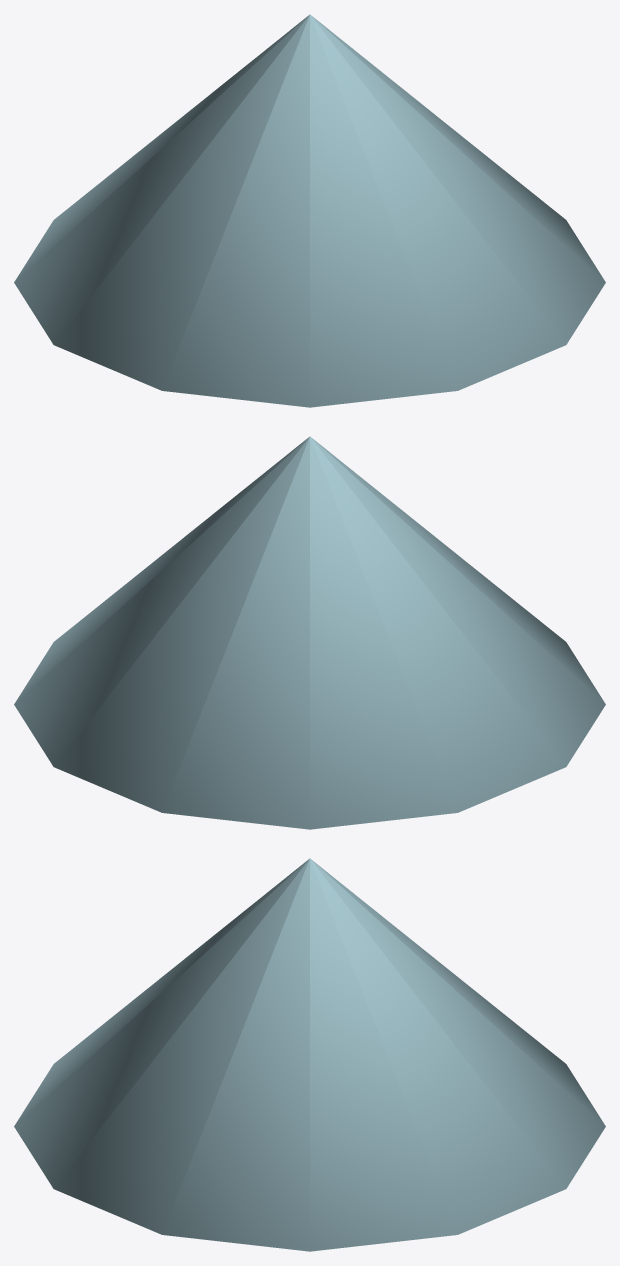
File: memory_shard.glb
3 renders of one model, top to bottom at view 1: azimuth 30°, elevation 25°; view 2: azimuth 150°, elevation 25°; view 3: azimuth 270°, elevation 25°, orthographic.
Parts seen in each view (by area): view 1: effect; view 2: effect; view 3: effect.
Part boxes in pixels (x1,y1,x2,y2): effect: (14, 14, 605, 407); effect: (14, 436, 605, 829); effect: (14, 858, 605, 1251).
Size of the model in its own units: 2 by 1 by 2.
